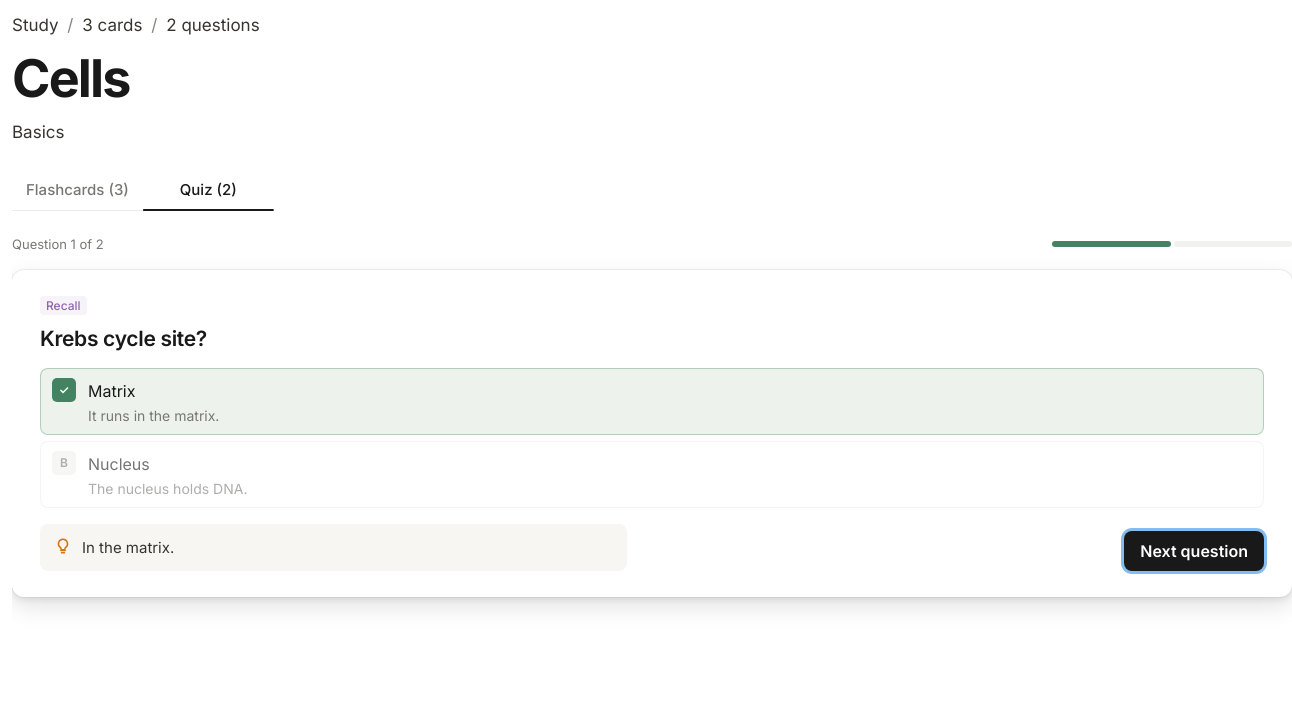
Scenario: StudyView › marks each answer at once with its rationale, then grades the round and retries the miss
Earlier steps of the test are not shown.
Check: the text "The nucleus holds DNA." is shown, box [88,478,247,499]
Click the button "Next question" at (1194, 551), box [1124,531,1264,571]
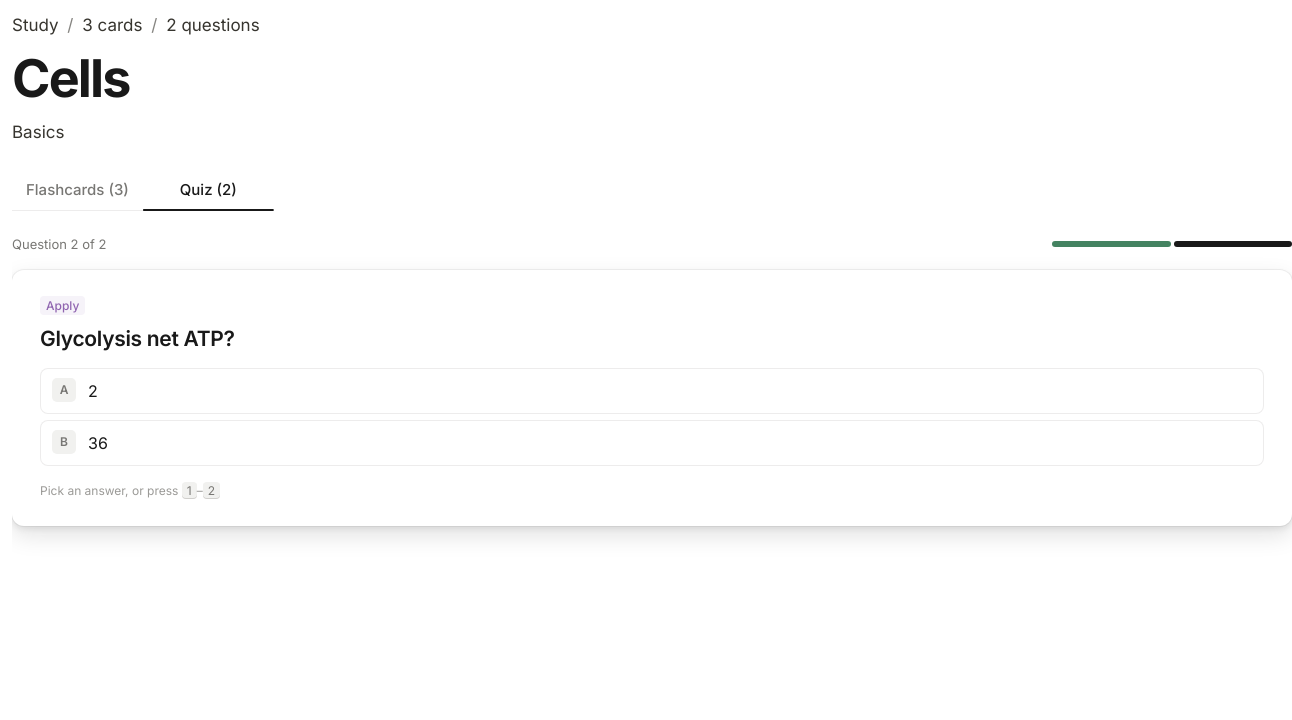
Type keys "2"
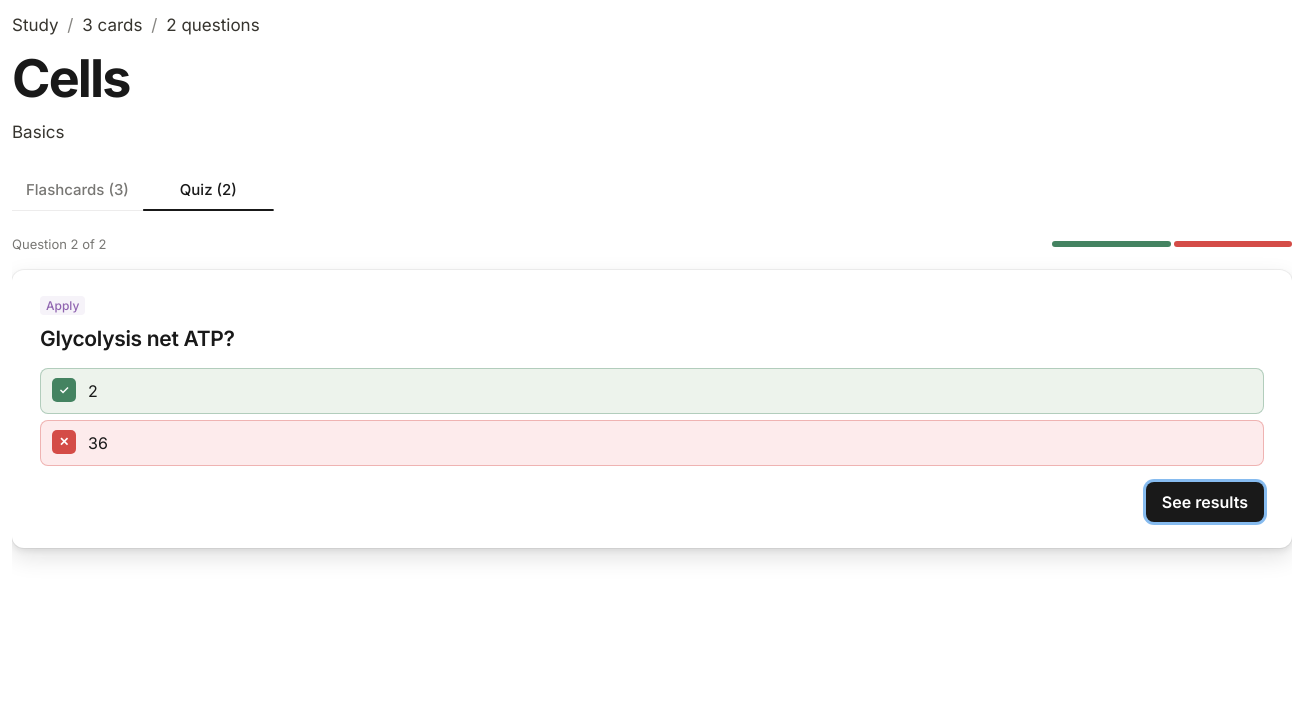
Click the button "See results" at (1205, 502), box [1146,482,1264,522]
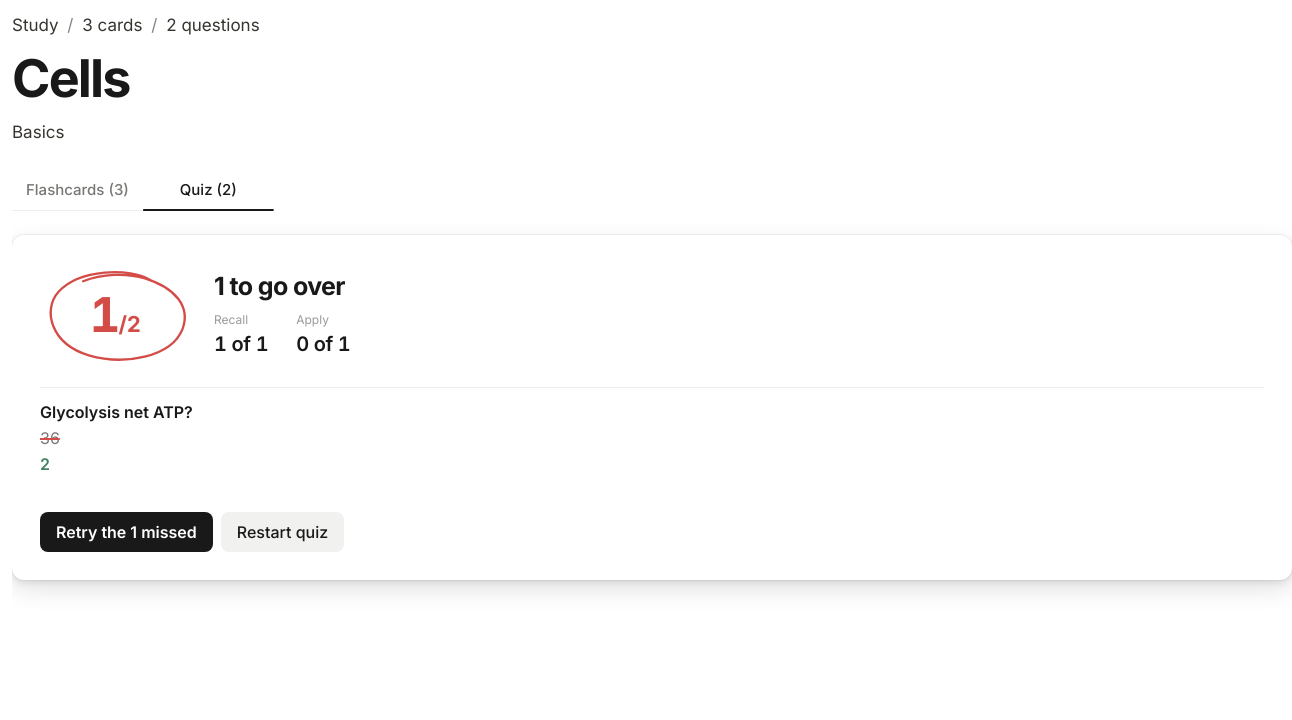
Check: the text "Glycolysis net ATP?" is shown, box [40,402,193,422]
Check: the message named "Score: 1 out of 2" is shown, box [40,262,190,366]
Click the button "Retry the 1 missed" at (126, 532), box [40,512,213,552]
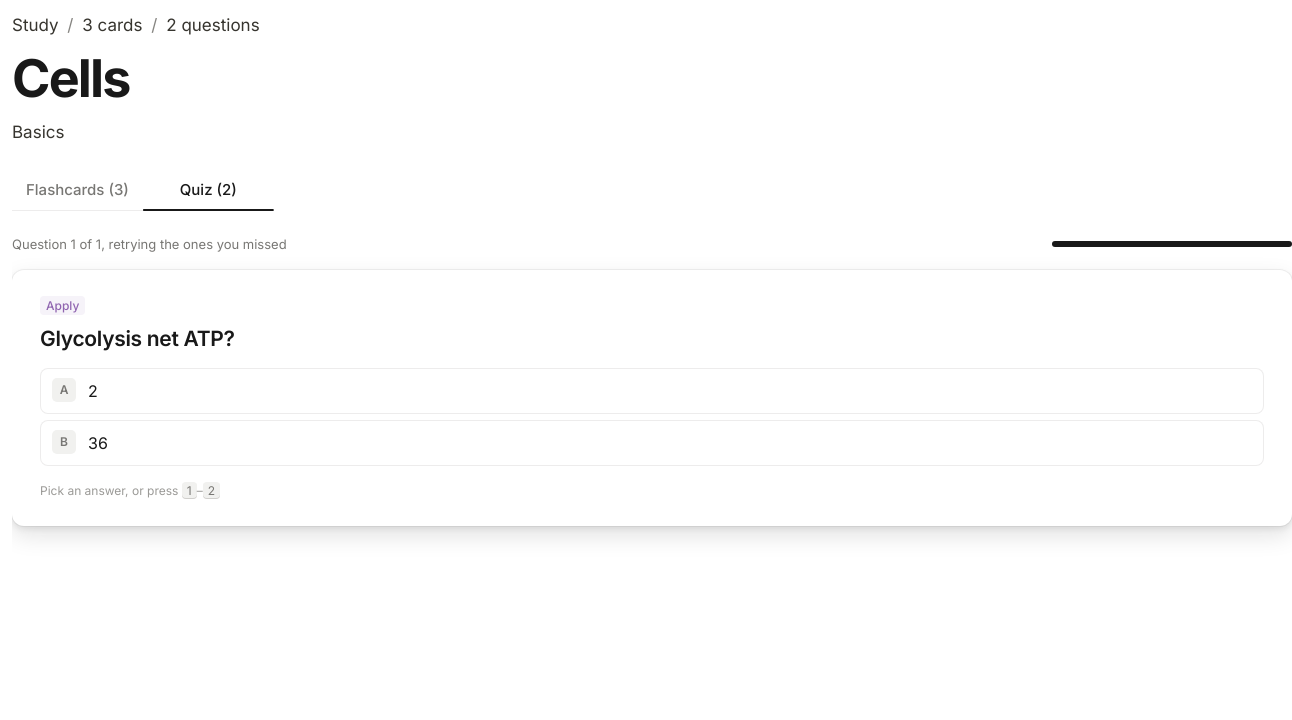
Check: the text "Question 1 of 1, retrying the ones you missed" is shown, box [12,234,287,254]
Click the radio button labelled "2" at (93, 391), box [40,368,1264,414]
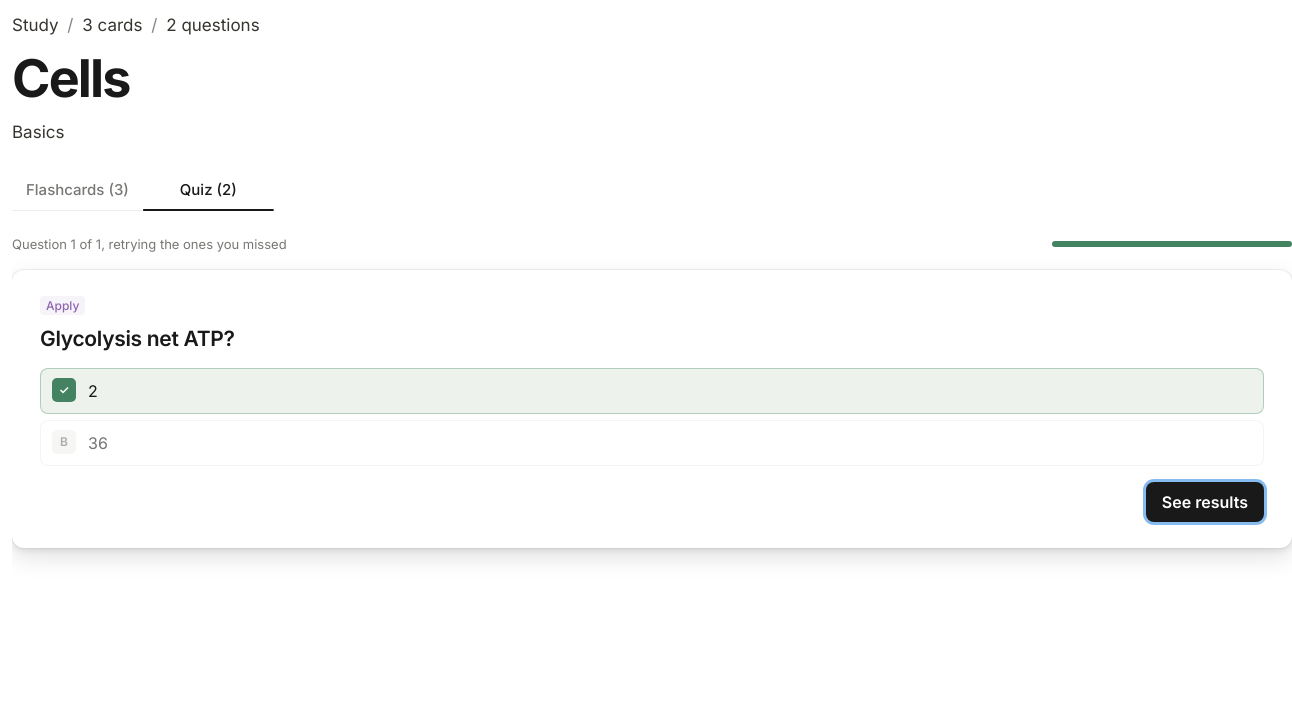
Click the button "See results" at (1205, 502), box [1146,482,1264,522]
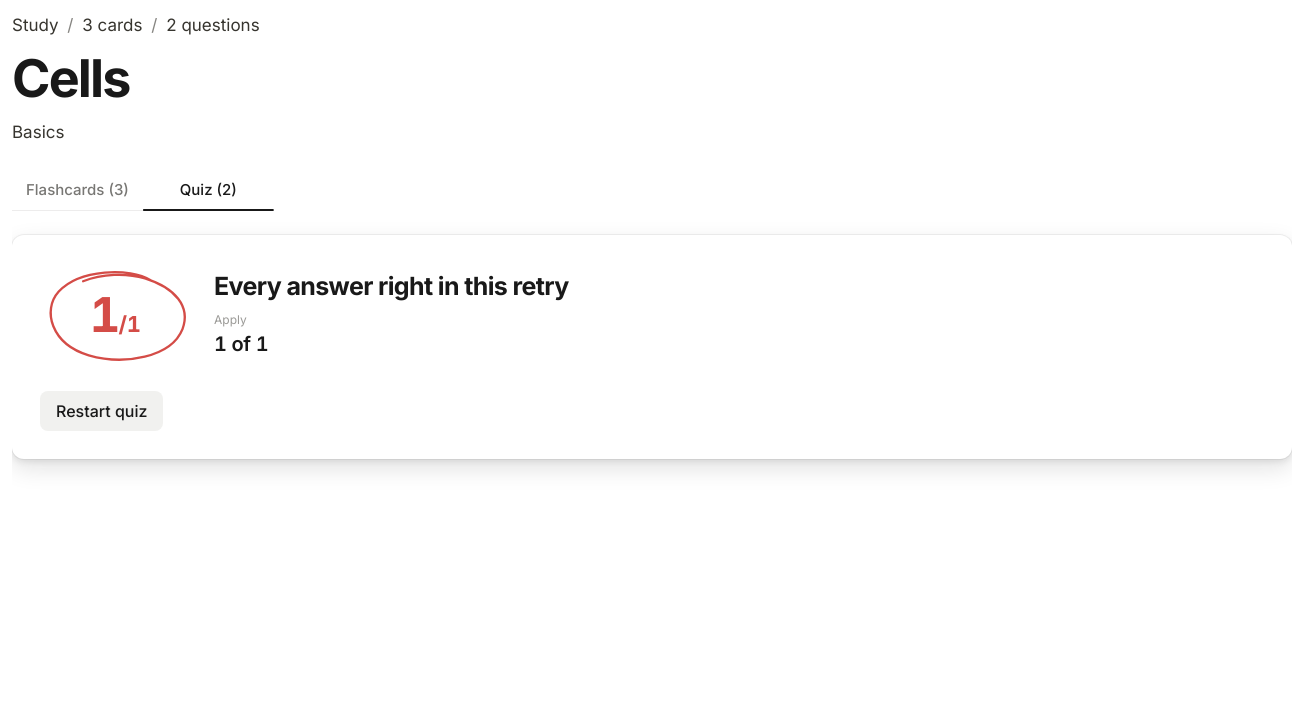
Check: the message named "Score: 1 out of 1" is shown, box [40,262,190,366]
